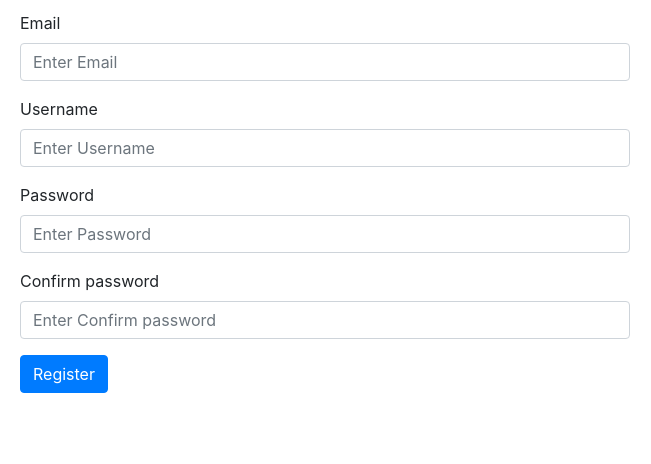
Test case: Register component › Register attemp › Should not register if email is not a valid format
Type "user1111" into the field labelled "Email" at (325, 62), box top-left (20, 43), bottom-right (630, 81)
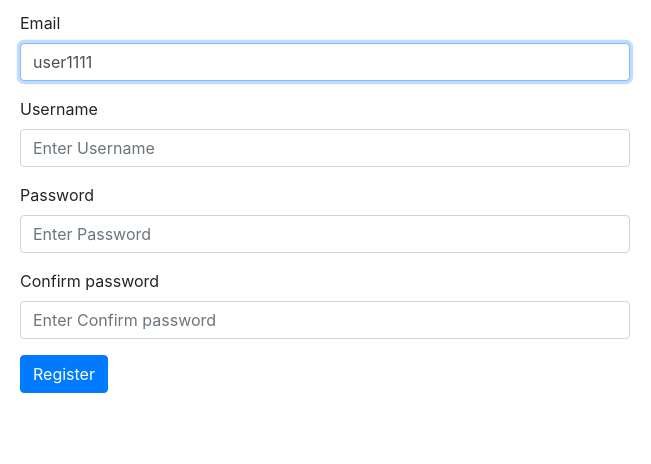
Type "user1" into the field labelled "Username" at (325, 148), box top-left (20, 129), bottom-right (630, 167)
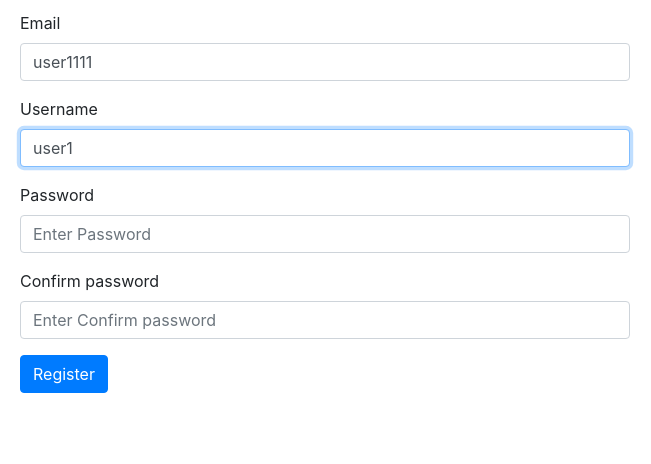
Type "123123" into the password field labelled "Password" at (325, 234), box top-left (20, 215), bottom-right (630, 253)
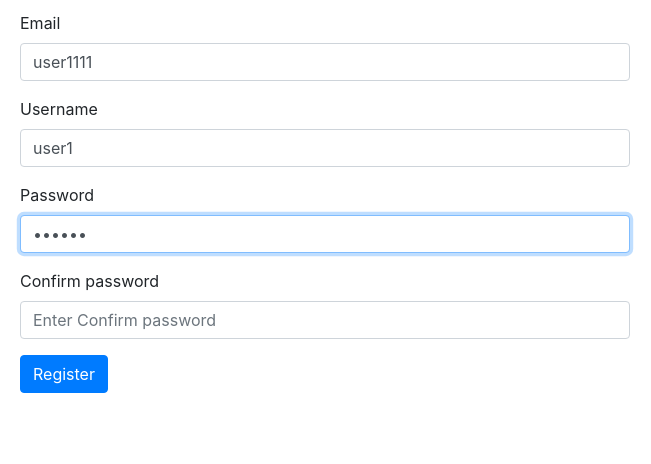
Type "123123" into the password field labelled "Confirm password" at (325, 320), box top-left (20, 301), bottom-right (630, 339)
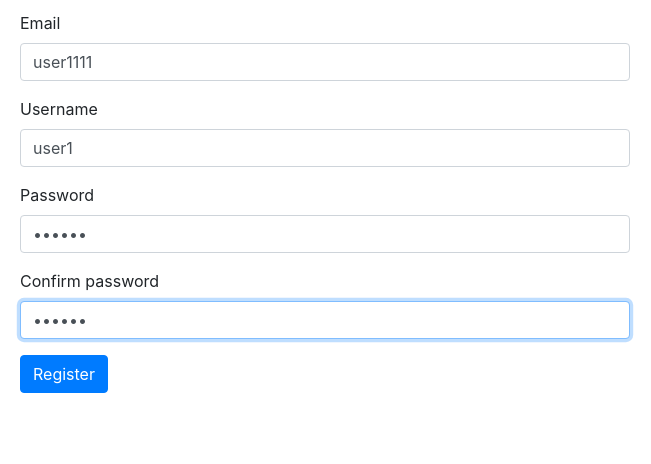
Click the button "Register" at (64, 374), box top-left (20, 355), bottom-right (108, 393)
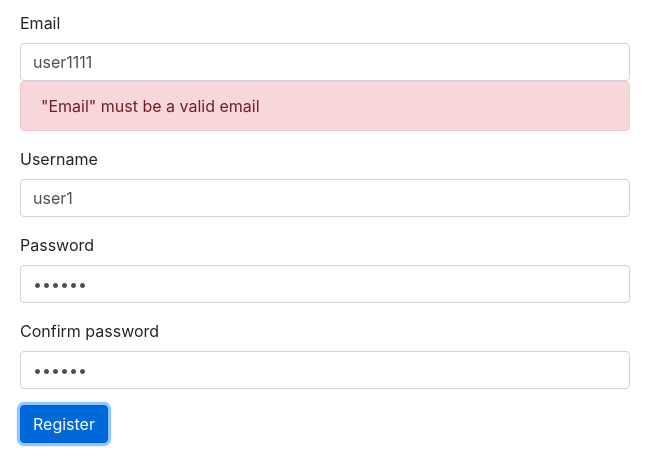
Expected: the message "\"Email\" must be a valid email" is shown, top-left (20, 81), bottom-right (630, 131)
